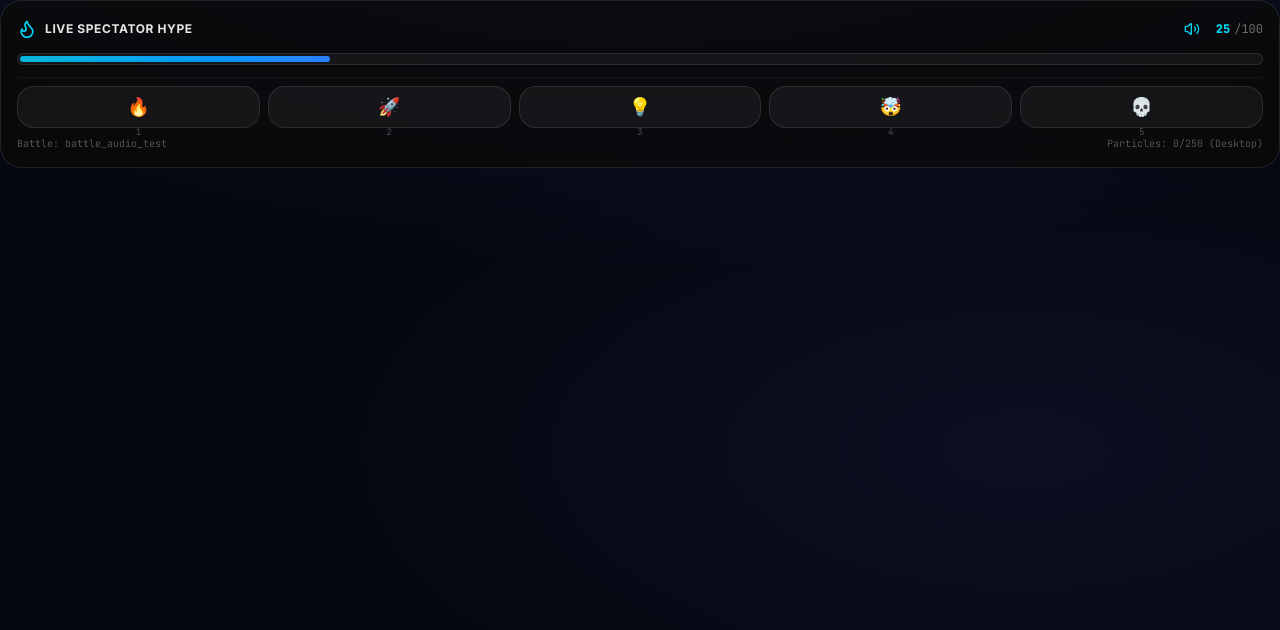
it: ReactionCanvas Component (#537 Canvas Physics & Live Hype Meter) › toggles audio mute state when volume button is clicked
Click the button named "mute audio": x=1192, y=29 [1180, 17, 1204, 41]
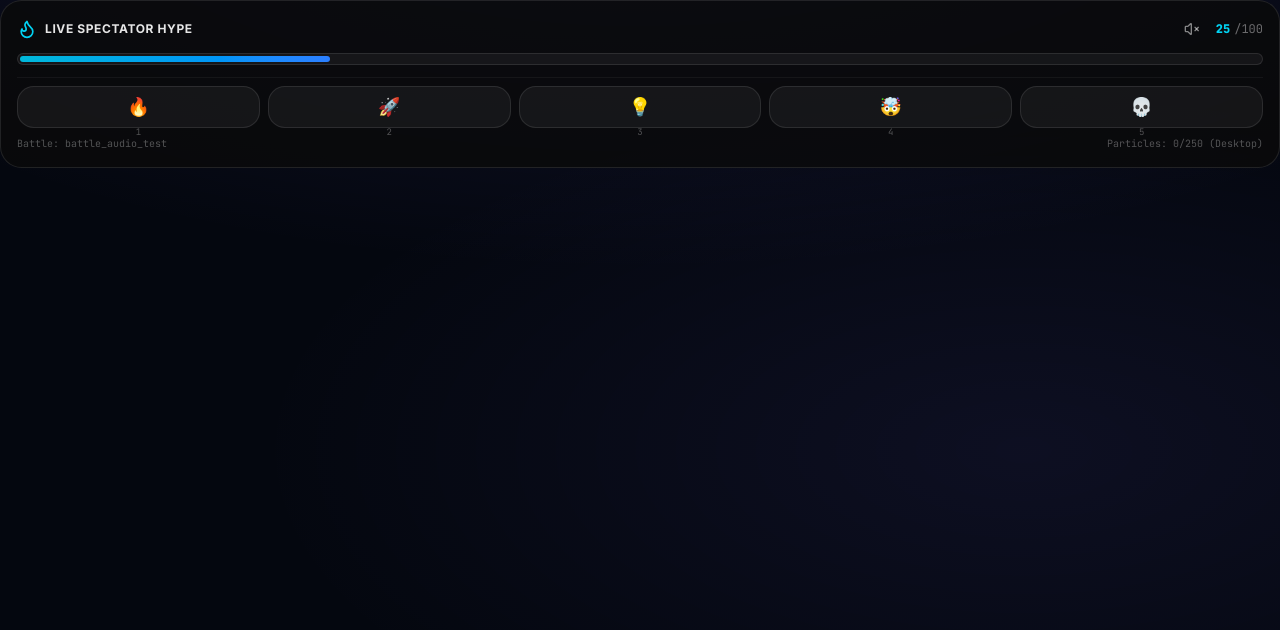
Now the button named "unmute audio" is shown, box [1180, 17, 1204, 41]
